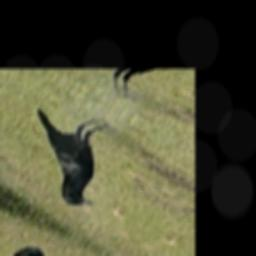Crow: (0, 90, 140, 215)
